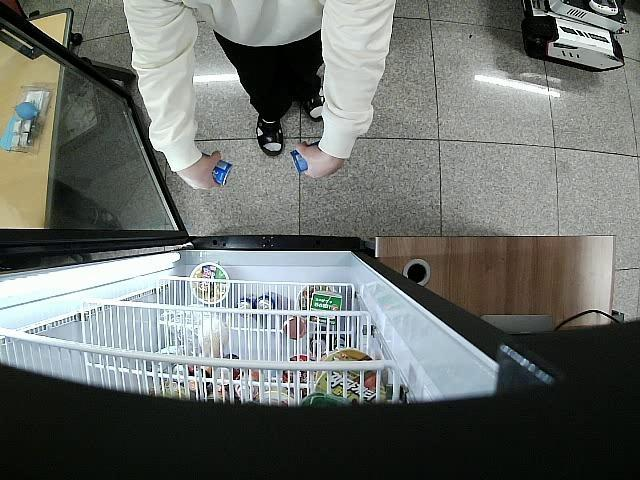15_letsbe: (201, 152, 233, 185), (290, 146, 310, 174)
